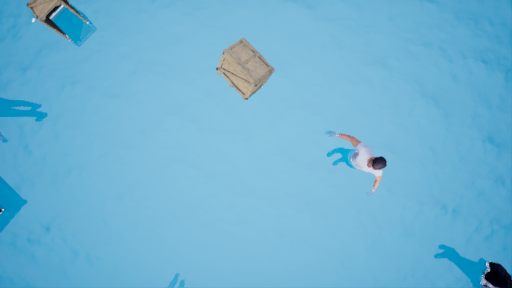person: (311, 130, 389, 196)
